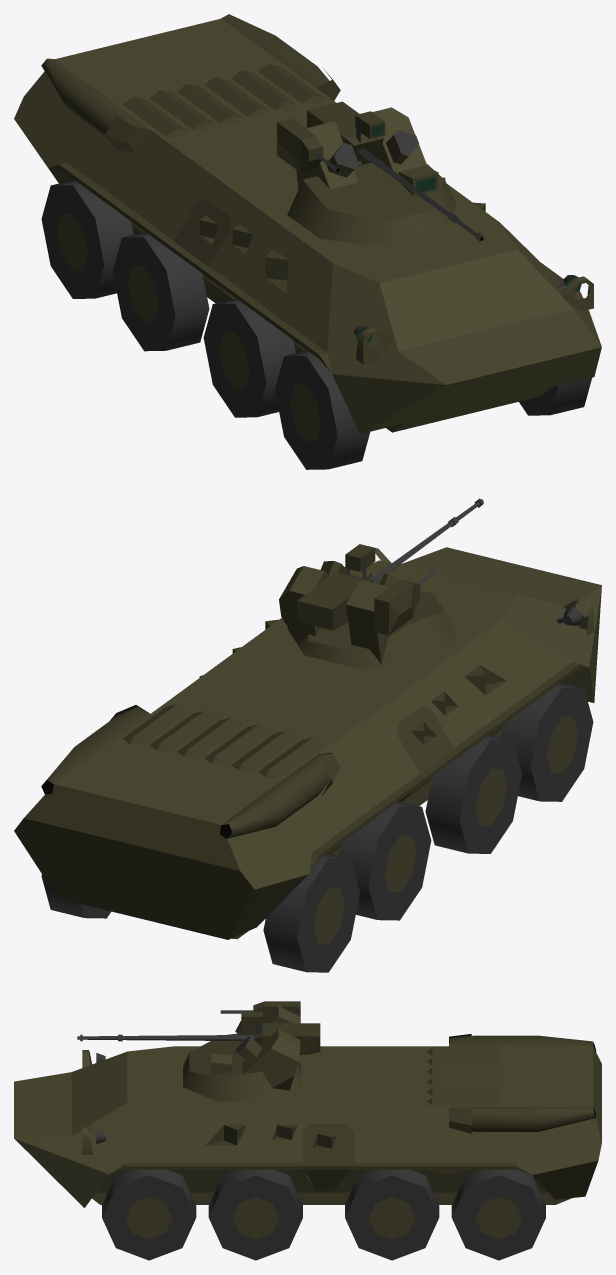
The model's file is BTR82.fbx.
3 views of the same model, one above another, from view 1: azimuth 30°, elevation 25°; view 2: azimuth 150°, elevation 25°; view 3: azimuth 270°, elevation 25° (orthographic). The views are drawn at different scales.
Visible parts, largest first — view 1: BTR82_Body, BTR82_Turret; view 2: BTR82_Body, BTR82_Turret; view 3: BTR82_Body, BTR82_Turret.
Boxes of the visible parts, x1,y1,x2,y2 form: BTR82_Body: (14,14,601,469); BTR82_Turret: (277,101,483,245); BTR82_Body: (14,547,601,972); BTR82_Turret: (279,498,483,668); BTR82_Body: (14,1034,601,1260); BTR82_Turret: (77,1001,320,1101).
Bounding box in the file's own units: 2.9 × 2.85 × 7.55.
